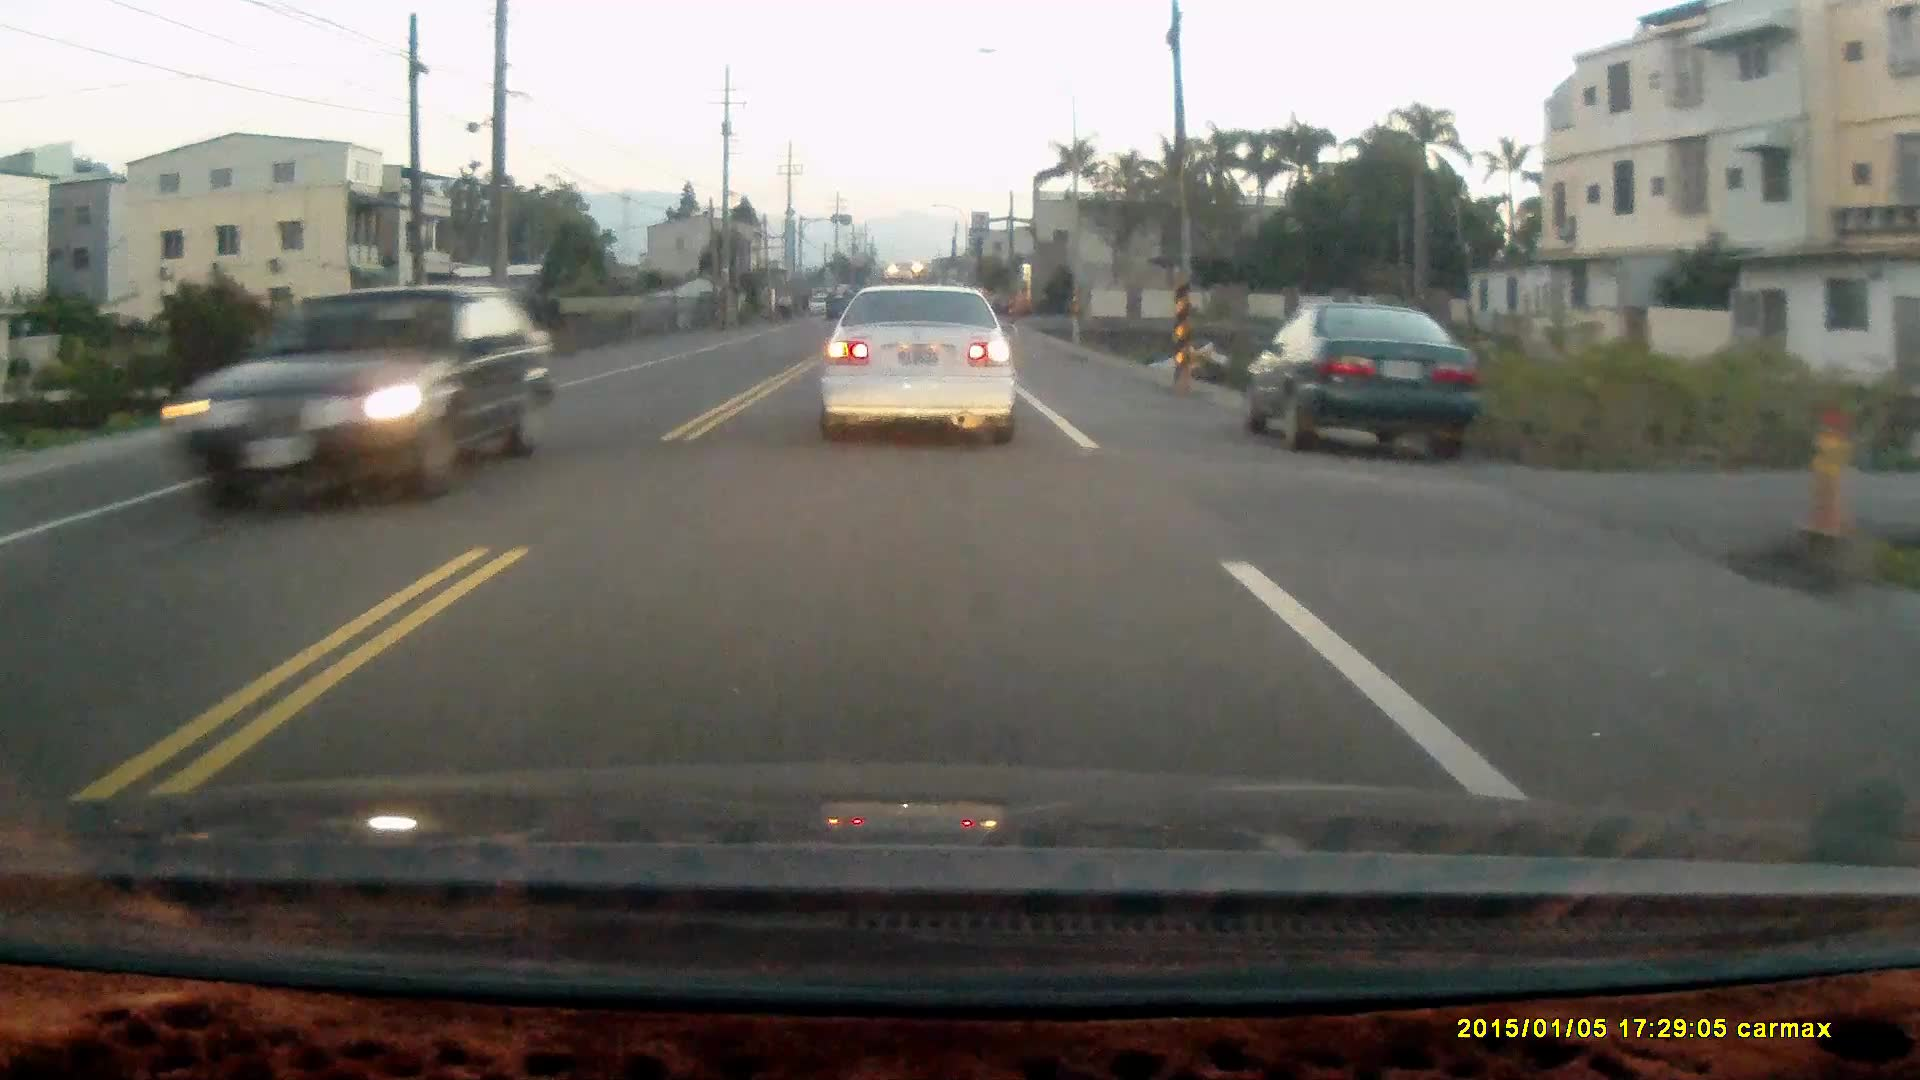vehicle: (171, 284, 554, 498), (1244, 299, 1481, 459), (818, 284, 1014, 444)
